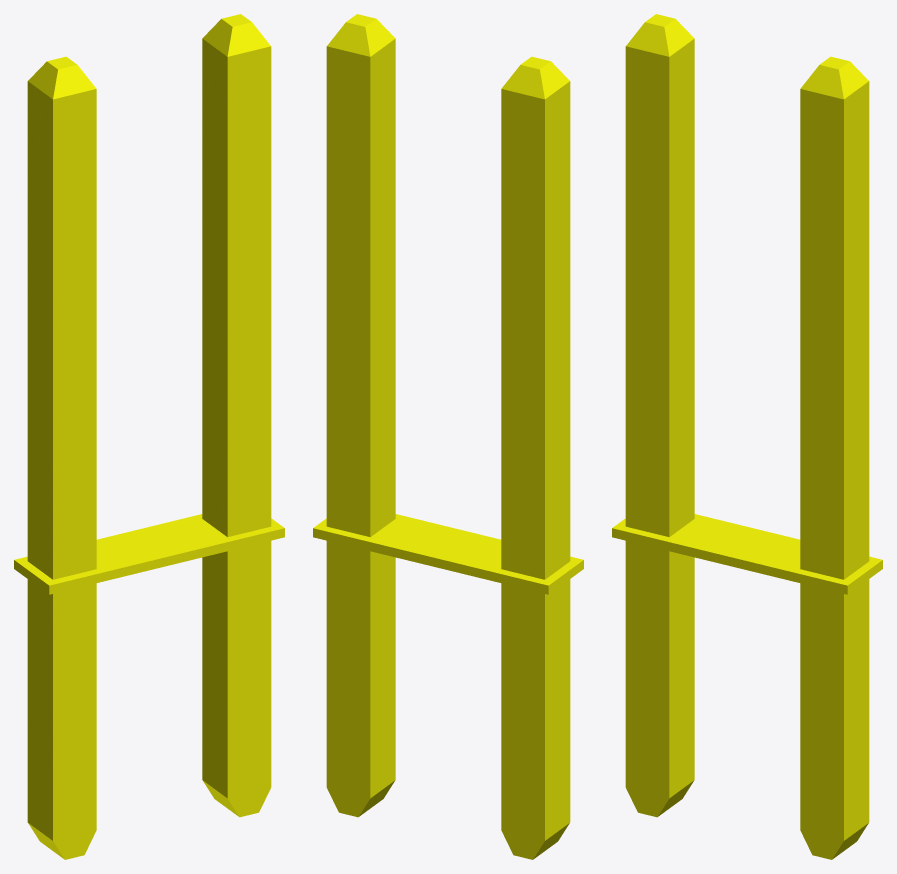
Rendered from T_1S6_07_TSW_1_07_2_S.gltf.
3 renders of one model, left to right at view 1: azimuth 30°, elevation 25°; view 2: azimuth 150°, elevation 25°; view 3: azimuth 330°, elevation 25°, orthographic.
Visible parts, largest first — view 1: mesh91064, mesh91057, mesh91053, mesh91056, mesh91044, mesh91037, mesh91038, mesh91042, mesh91052, mesh91048, mesh91065, mesh91058 (+2 smaller); view 2: mesh91068, mesh91061, mesh91053, mesh91056, mesh91043, mesh91036, mesh91038, mesh91042, mesh91052, mesh91049, mesh91067, mesh91060 (+2 smaller); view 3: mesh91057, mesh91064, mesh91054, mesh91055, mesh91037, mesh91044, mesh91041, mesh91035, mesh91052, mesh91048, mesh91058, mesh91065 (+2 smaller).
Part boxes in pixels (box(x1,y1,x2,y2)): mesh91064: box(227, 46, 271, 536); mesh91057: box(53, 89, 96, 579); mesh91053: box(27, 81, 52, 579); mesh91056: box(202, 39, 227, 536); mesh91044: box(227, 541, 271, 817); mesh91037: box(53, 583, 96, 859); mesh91038: box(27, 579, 52, 840); mesh91042: box(202, 551, 227, 798); mesh91052: box(14, 514, 284, 585); mesh91048: box(49, 528, 284, 594); mesh91065: box(227, 22, 270, 56); mesh91058: box(53, 65, 96, 99); mesh91068: box(326, 46, 370, 536); mesh91061: box(501, 89, 544, 579); mesh91053: box(545, 81, 570, 579); mesh91056: box(370, 39, 395, 536); mesh91043: box(326, 541, 370, 817); mesh91036: box(501, 583, 544, 859); mesh91038: box(545, 579, 570, 840); mesh91042: box(370, 551, 395, 798); mesh91052: box(313, 514, 583, 585); mesh91049: box(313, 528, 548, 594); mesh91067: box(327, 22, 370, 56); mesh91060: box(501, 65, 544, 99); mesh91057: box(625, 46, 669, 536); mesh91064: box(800, 89, 843, 579); mesh91054: box(844, 81, 869, 579); mesh91055: box(669, 39, 694, 536); mesh91037: box(625, 541, 669, 817); mesh91044: box(800, 583, 843, 859); mesh91041: box(844, 579, 869, 840); mesh91035: box(669, 551, 694, 798); mesh91052: box(612, 514, 882, 585); mesh91048: box(612, 528, 847, 594); mesh91058: box(626, 22, 669, 56); mesh91065: box(800, 65, 843, 99).
Size of the model in its own units: 0.00343 by 0.0109 by 0.000889.
